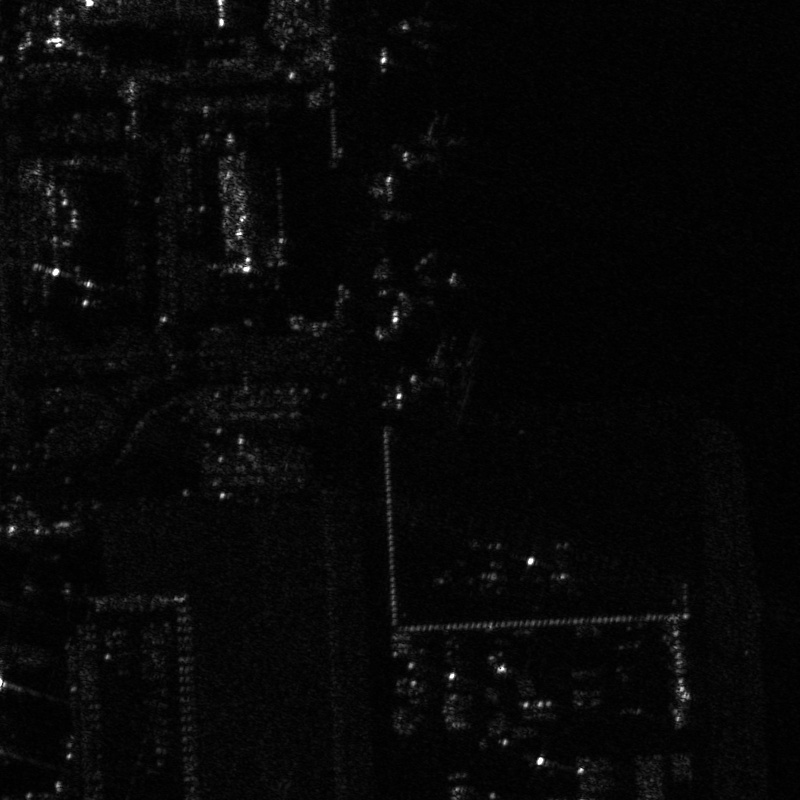A220: (379, 242, 478, 318)
A320/321: (383, 111, 470, 174)
ARJ21: (468, 532, 518, 595)
other: (403, 333, 485, 400), (384, 1, 461, 58), (534, 533, 594, 595)
